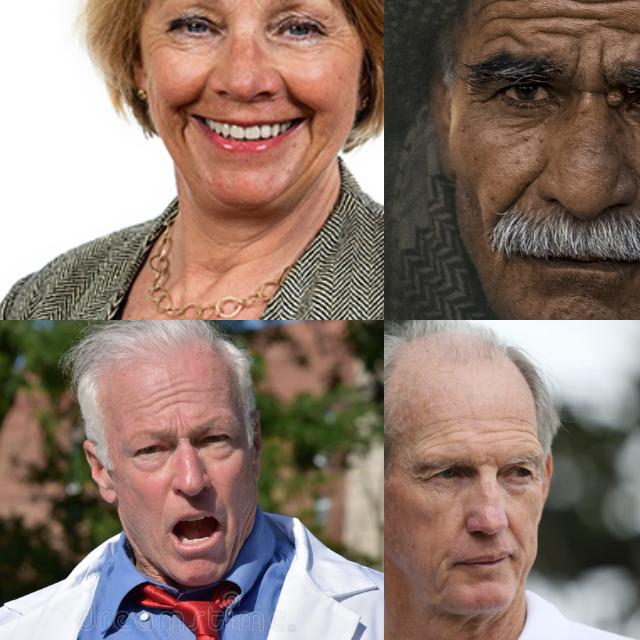crows_feet: (325, 10, 345, 52), (146, 16, 168, 54)
forehead: (586, 0, 631, 42), (530, 0, 574, 37), (482, 0, 517, 46), (484, 422, 540, 446), (151, 378, 195, 406), (420, 420, 462, 444)
frown_line: (592, 46, 618, 85), (568, 46, 586, 78), (174, 418, 192, 439)
gummy_smile: (500, 167, 544, 216), (276, 66, 312, 110), (181, 74, 209, 108), (508, 524, 528, 550), (630, 171, 640, 221)
masseter: (430, 554, 452, 590), (224, 525, 242, 561)
sad_smile: (172, 111, 195, 151), (302, 116, 318, 148)
